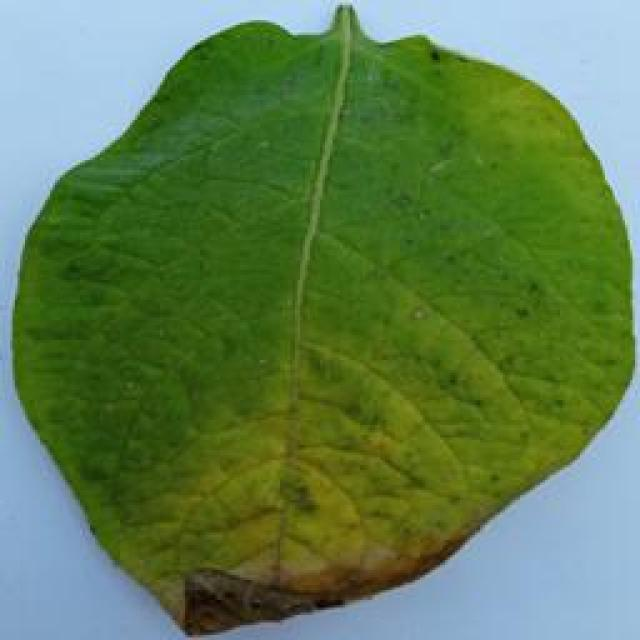Potato_Late_Blight: (14, 6, 626, 636)
